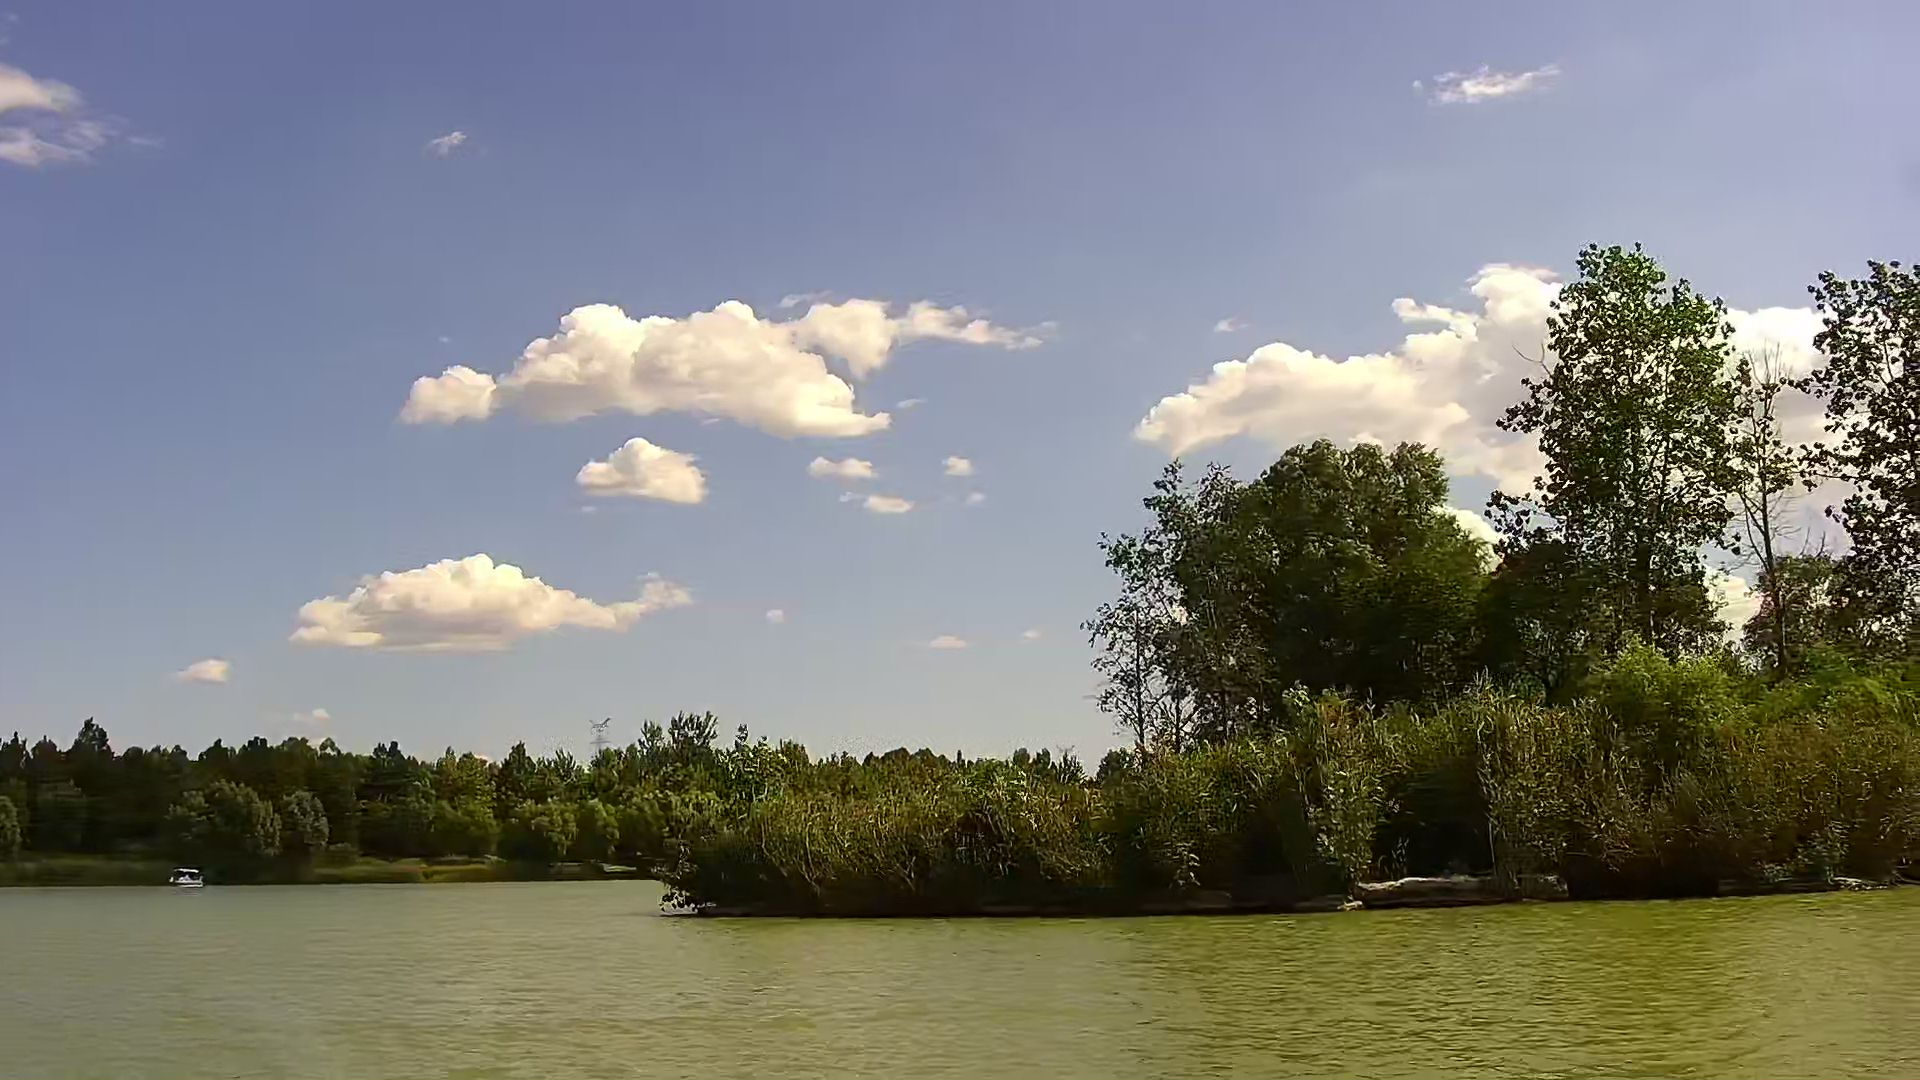boat: (167, 865, 202, 891)
